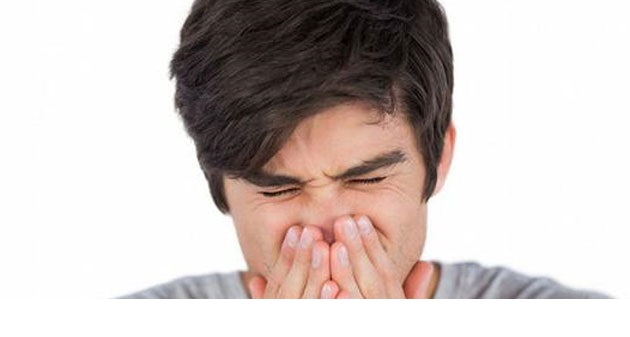face: (239, 125, 420, 299)
